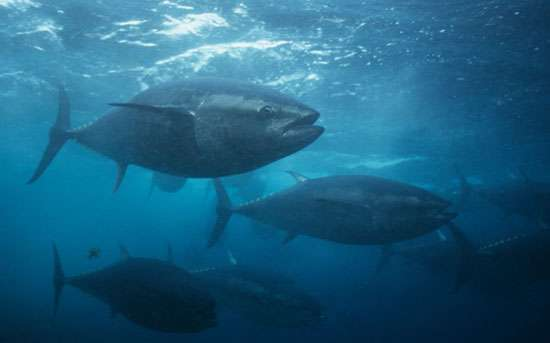Bluefina Tuna: (42, 73, 328, 189), (210, 180, 465, 253), (45, 233, 223, 334)
